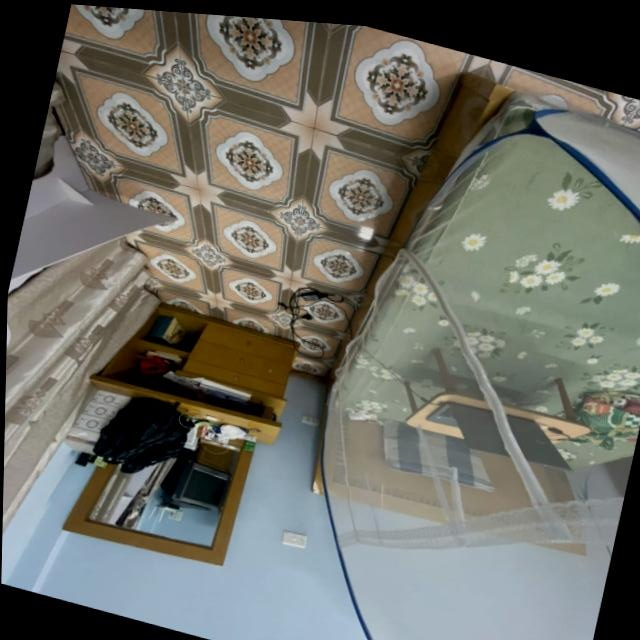outlet: (300, 413, 320, 428)
